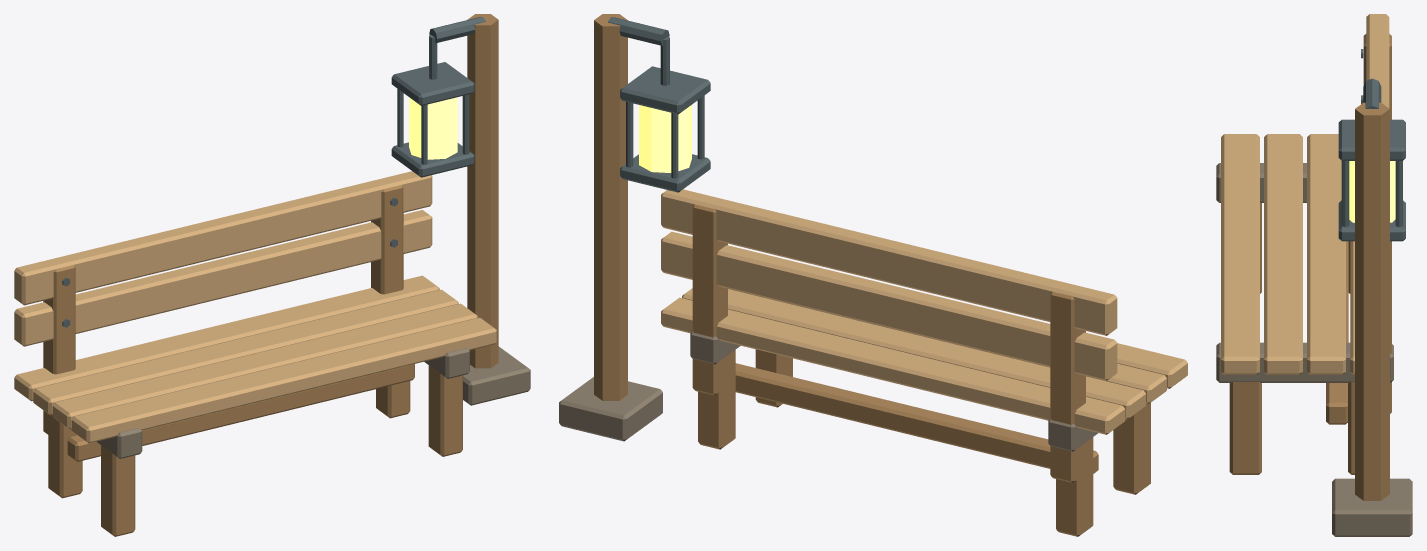
Rendered from chapter_fishing_bench.glb.
3 renders of one model, left to right at view 1: azimuth 30°, elevation 25°; view 2: azimuth 150°, elevation 25°; view 3: azimuth 270°, elevation 25°, orthographic. The views are drawn at different scales.
Visible parts, largest first — view 1: Backrest fresh plank.001, Backrest fresh plank, Repaired seat plank, Lantern hand cut post, Repaired seat plank.001, Repaired seat plank.002, Repaired seat plank.003, Lower stretcher, Bench back upright, Bench pegged leg.002, Bench pegged leg, Bench back upright.001 (+9 smaller); view 2: Backrest fresh plank.001, Backrest fresh plank, Repaired seat plank.003, Lantern hand cut post, Lower stretcher, Repaired seat plank.002, Bench back upright.001, Bench back upright, Lantern broad foot, Lantern amber panes, Bench pegged leg, Lantern iron rim.001 (+9 smaller); view 3: Lantern hand cut post, Repaired seat plank, Repaired seat plank.001, Repaired seat plank.002, Lantern broad foot, Bench pegged leg.002, Bench seat cross support.001, Backrest fresh plank.001, Lantern iron rim.001, Lower stretcher, Lantern iron rim, Lantern amber panes (+8 smaller).
Boxes of the visible parts, x1,y1,x2,y2 form: Backrest fresh plank.001: [14, 171, 432, 305]; Backrest fresh plank: [14, 210, 432, 346]; Repaired seat plank: [71, 317, 496, 443]; Lantern hand cut post: [467, 14, 498, 368]; Repaired seat plank.001: [52, 303, 477, 429]; Repaired seat plank.002: [33, 289, 458, 415]; Repaired seat plank.003: [14, 275, 439, 401]; Lower stretcher: [67, 364, 414, 461]; Bench back upright: [43, 265, 75, 434]; Bench pegged leg.002: [428, 365, 462, 456]; Bench pegged leg: [101, 445, 135, 536]; Bench back upright.001: [371, 185, 403, 294]; Backrest fresh plank.001: [661, 189, 1117, 335]; Backrest fresh plank: [661, 231, 1117, 380]; Repaired seat plank.003: [661, 297, 1125, 434]; Lantern hand cut post: [594, 14, 627, 400]; Lower stretcher: [735, 363, 1098, 473]; Repaired seat plank.002: [682, 288, 1145, 419]; Bench back upright.001: [692, 204, 727, 395]; Bench back upright: [1050, 292, 1085, 482]; Lantern broad foot: [559, 377, 662, 441]; Lantern amber panes: [639, 105, 691, 172]; Bench pegged leg: [1113, 403, 1150, 494]; Lantern iron rim.001: [620, 66, 710, 114]; Lantern hand cut post: [1355, 102, 1389, 500]; Repaired seat plank: [1221, 134, 1259, 374]; Repaired seat plank.001: [1264, 134, 1302, 374]; Repaired seat plank.002: [1307, 134, 1345, 374]; Lantern broad foot: [1332, 478, 1412, 536]; Bench pegged leg.002: [1229, 382, 1261, 474]; Bench seat cross support.001: [1216, 342, 1393, 382]; Backrest fresh plank.001: [1366, 14, 1389, 107]; Lantern iron rim.001: [1338, 119, 1405, 160]; Lower stretcher: [1326, 241, 1348, 424]; Lantern iron rim: [1338, 200, 1405, 241]; Lantern amber panes: [1349, 161, 1395, 222].
Bounding box in the file's own units: 2.38 × 1.7 × 0.73.
